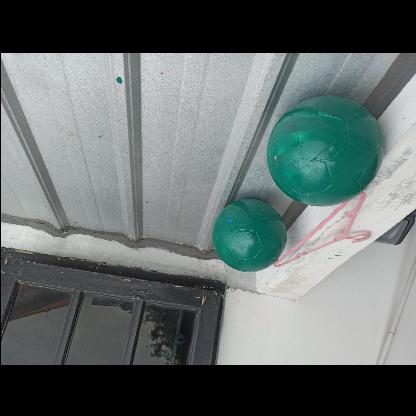green_ball: (267, 93, 383, 209), (212, 199, 284, 271)
